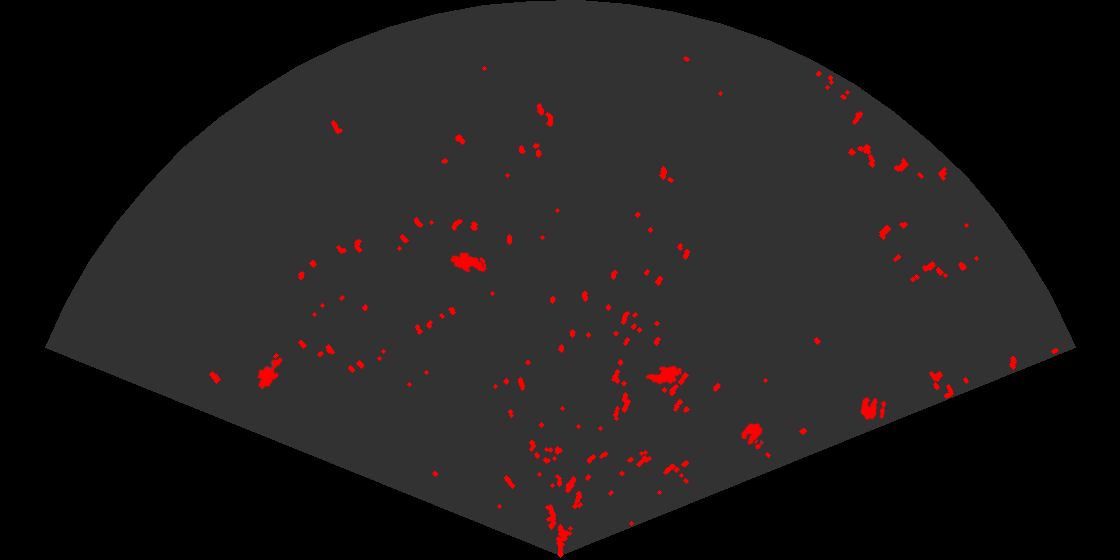AUV: (256, 356, 284, 391), (448, 250, 488, 274), (644, 364, 684, 386)
ball: (859, 395, 888, 422), (740, 421, 765, 451)
